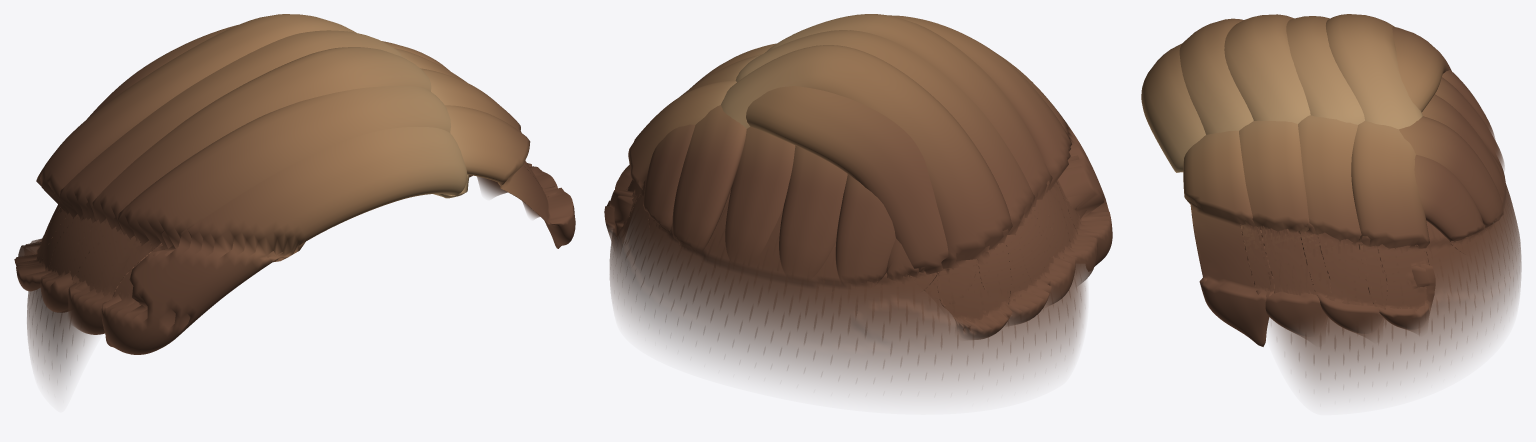
The model's file is Masculine-taper-headband258-hair-ombre.glb.
3 views of the same model, side by side, from view 1: azimuth 30°, elevation 25°; view 2: azimuth 150°, elevation 25°; view 3: azimuth 270°, elevation 25° (orthographic). The views are drawn at different scales.
Parts seen in each view (by area): view 1: 226 hair / Hair258 / sculpted side sweep 1, 226 hair / Hair258 / sculpted side sweep 0, 226 hair / Hair258 / sculpted side sweep 2, 226 hair / Hair258 / smooth side fade; view 2: 226 hair / Hair258 / smooth side fade, 226 hair / Hair258 / sculpted side sweep 0, 226 hair / Hair258 / sculpted side sweep 1, 226 hair / Hair258 / sculpted side sweep 2, 226 hair / Hair258 / directional fade marks; view 3: 226 hair / Hair258 / sculpted side sweep 1, 226 hair / Hair258 / sculpted side sweep 0, 226 hair / Hair258 / smooth side fade, 226 hair / Hair258 / sculpted side sweep 2, 226 hair / Hair258 / directional fade marks.
Part boxes in pixels (<box>): 226 hair / Hair258 / sculpted side sweep 1: <box>16,30,575,354</box>; 226 hair / Hair258 / sculpted side sweep 0: <box>14,14,557,334</box>; 226 hair / Hair258 / sculpted side sweep 2: <box>40,47,531,312</box>; 226 hair / Hair258 / smooth side fade: <box>27,204,151,390</box>; 226 hair / Hair258 / smooth side fade: <box>610,179,1086,395</box>; 226 hair / Hair258 / sculpted side sweep 0: <box>672,15,1097,339</box>; 226 hair / Hair258 / sculpted side sweep 1: <box>604,30,1112,325</box>; 226 hair / Hair258 / sculpted side sweep 2: <box>615,14,1075,304</box>; 226 hair / Hair258 / directional fade marks: <box>618,179,1080,368</box>; 226 hair / Hair258 / sculpted side sweep 1: <box>1141,16,1504,346</box>; 226 hair / Hair258 / sculpted side sweep 0: <box>1179,14,1503,337</box>; 226 hair / Hair258 / smooth side fade: <box>1247,150,1521,396</box>; 226 hair / Hair258 / sculpted side sweep 2: <box>1224,14,1504,334</box>; 226 hair / Hair258 / directional fade marks: <box>1252,149,1511,378</box>.
Size of the model in its own units: 0.9751 by 0.6474 by 0.7505.
